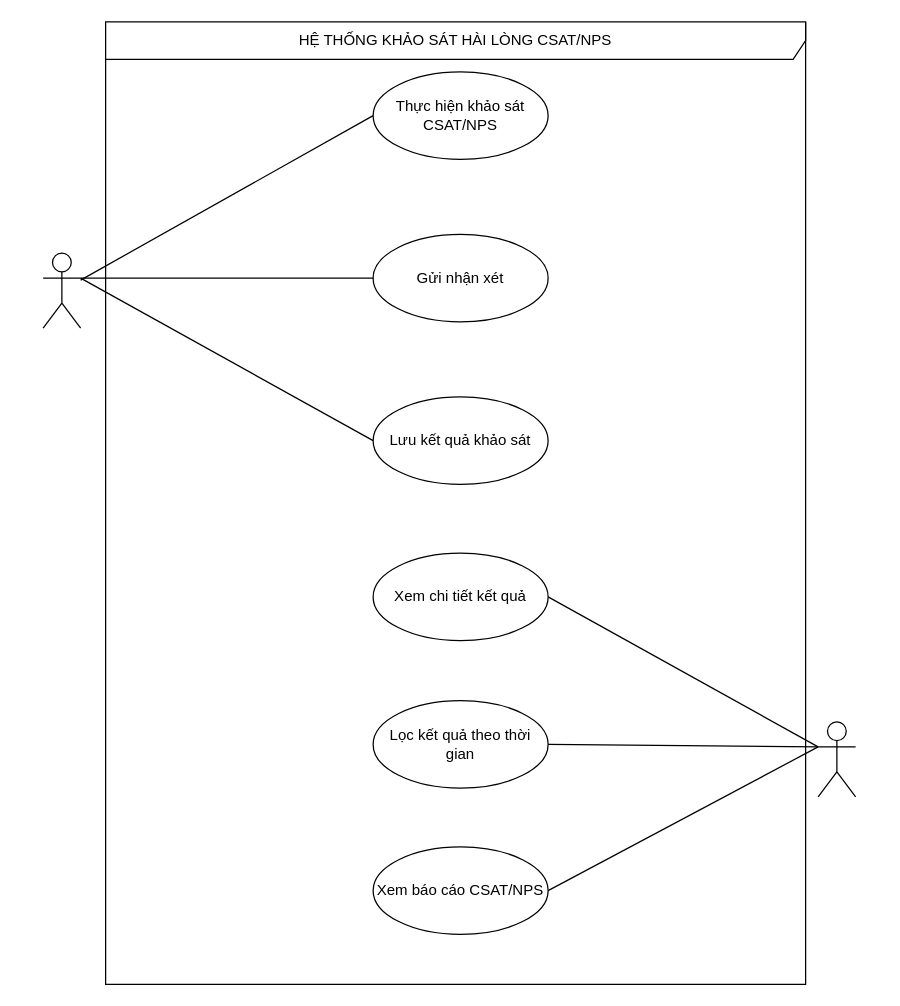
This 900x1006 diagram has some shape labels left out. Each missing label, with the centre of its shape:
"Khách hàng" goes at point 61,290.
"Quản trị viên" goes at point 836,759.
